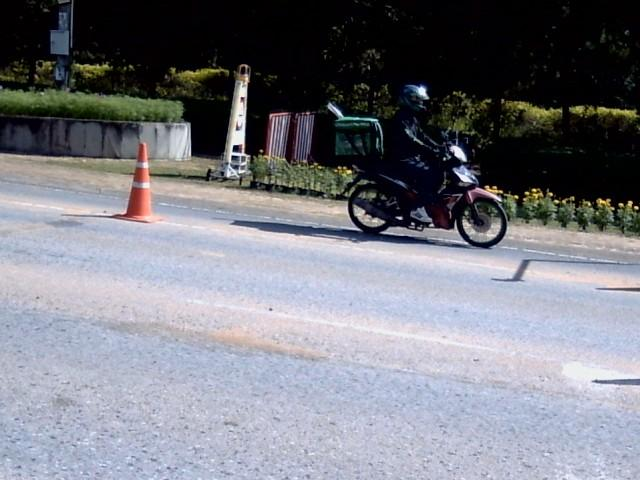helmet: (396, 83, 430, 116)
motor: (343, 145, 507, 247)
person: (388, 84, 445, 221)
